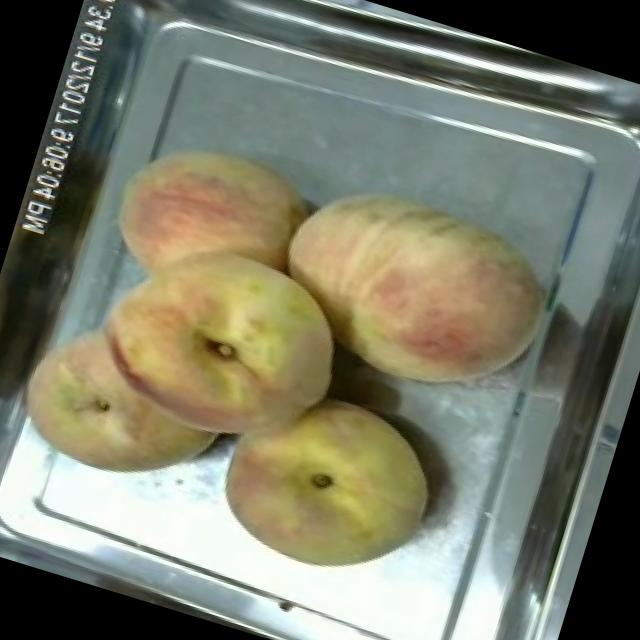Fruit: (49, 112, 398, 480), (251, 158, 571, 422), (193, 361, 460, 603), (0, 315, 245, 511)
